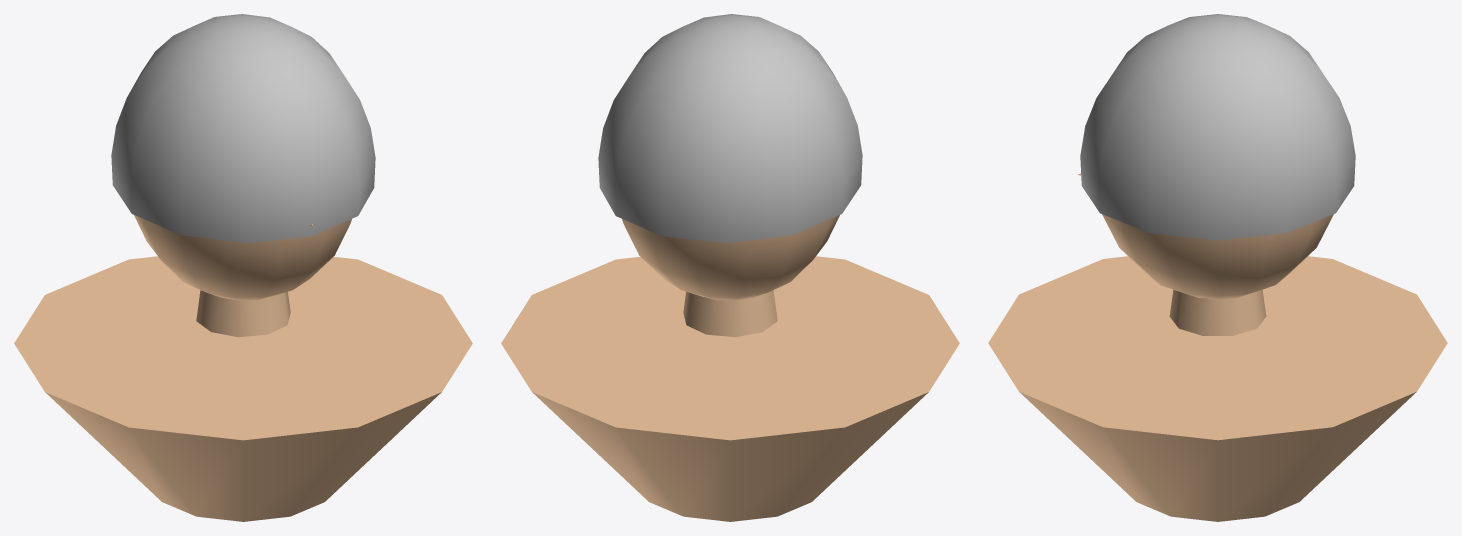
The model's file is raw_002.glb.
3 renders of one model, left to right at view 1: azimuth 30°, elevation 25°; view 2: azimuth 150°, elevation 25°; view 3: azimuth 270°, elevation 25°, orthographic.
Bounding box in the file's own units: 1.99 × 2.19 × 1.99.
